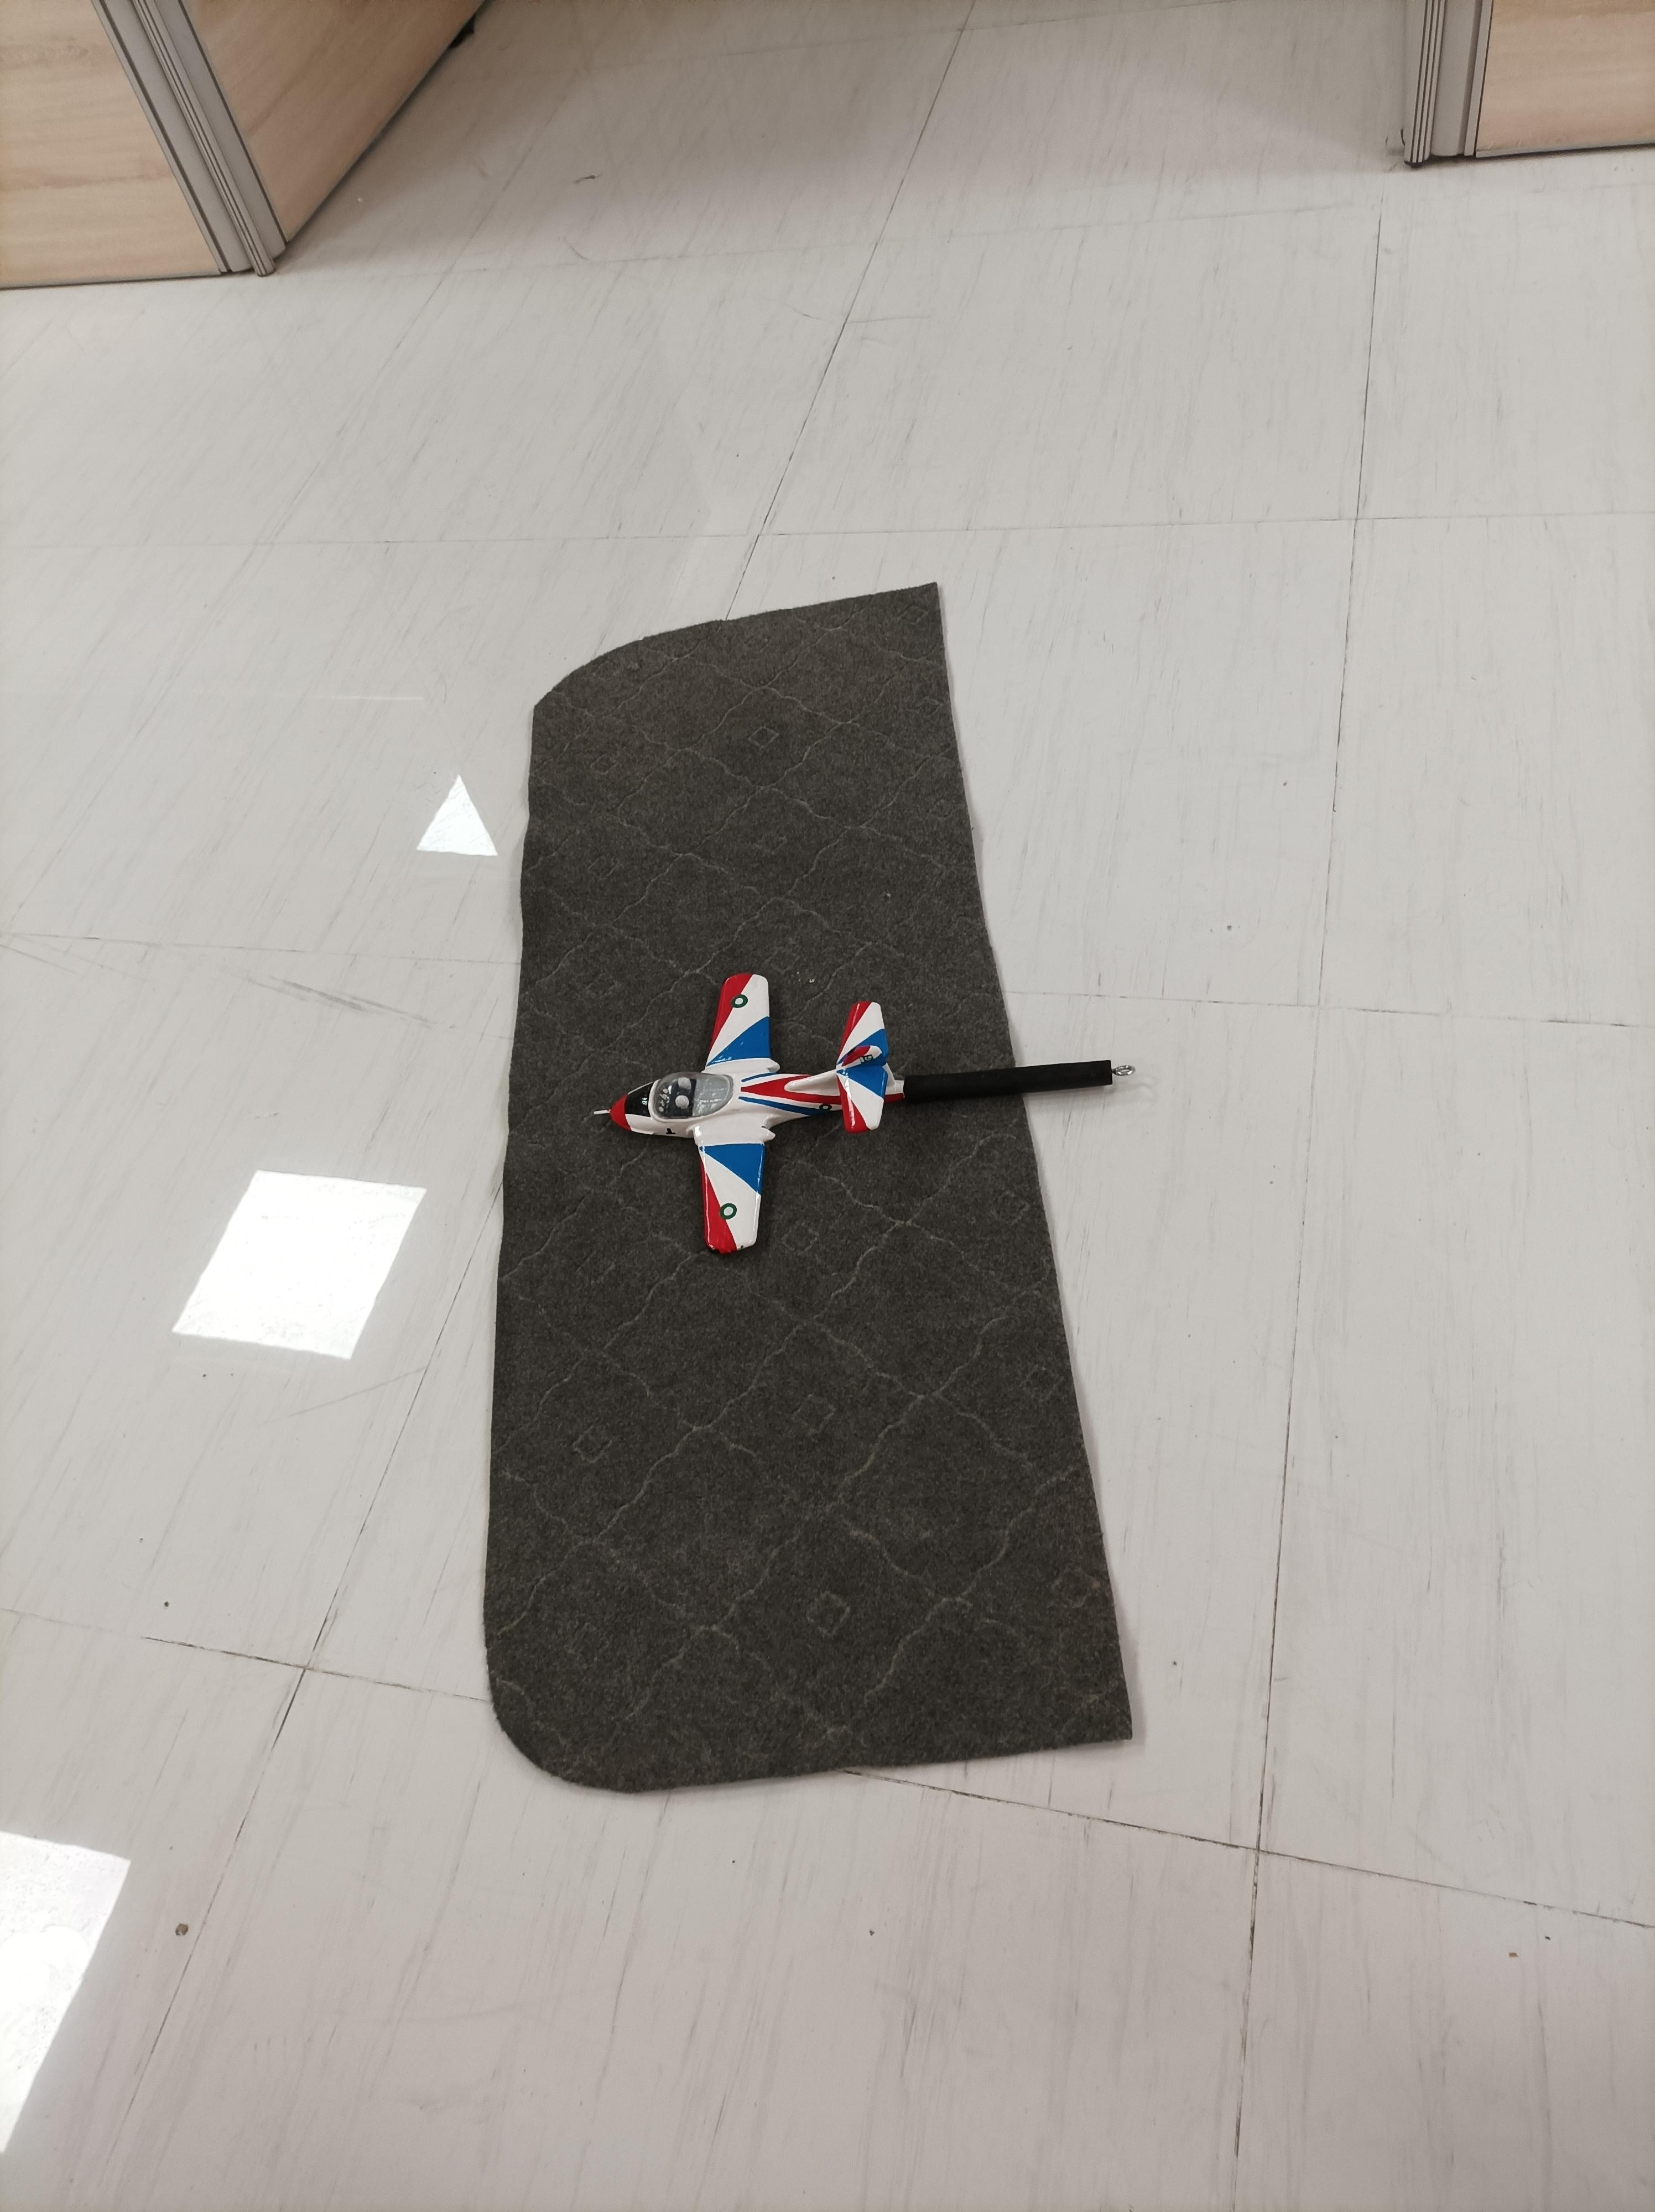Airplane: (586, 964, 916, 1272)
